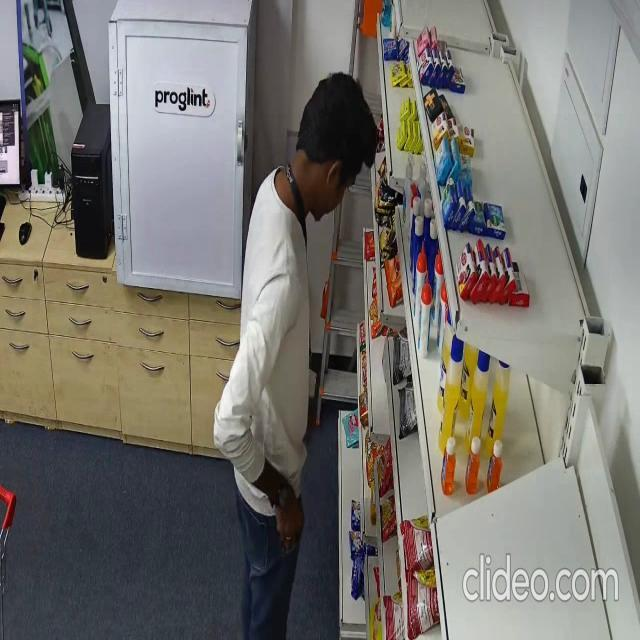Shoplifting: (215, 73, 380, 640)
